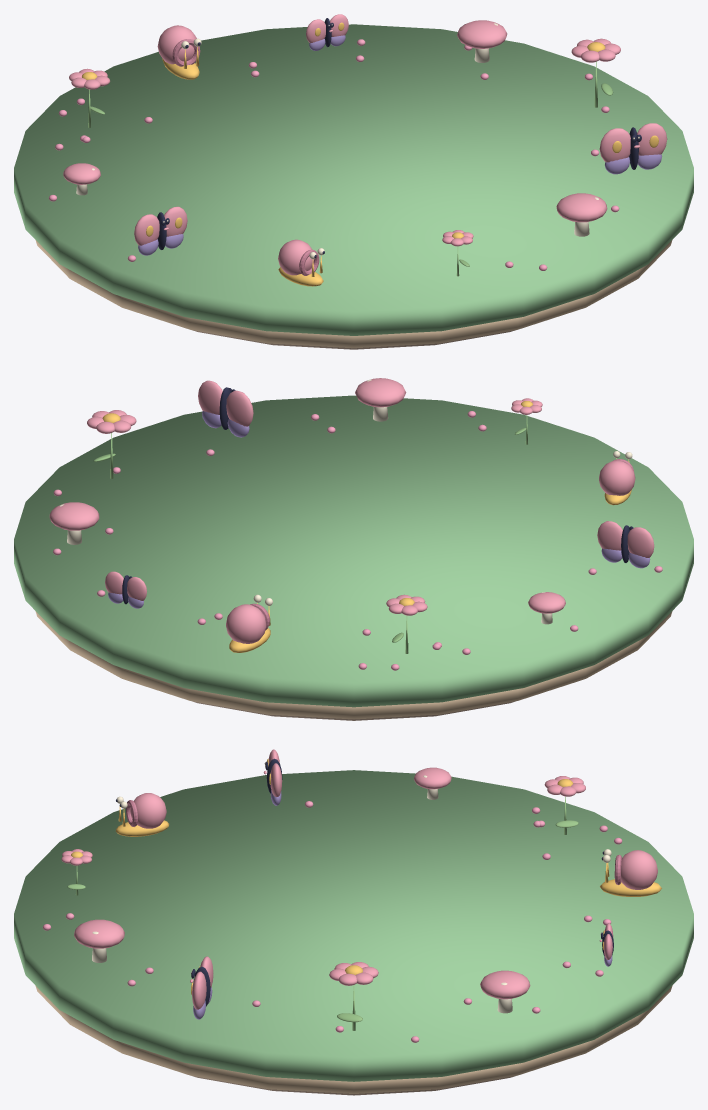
File: world.glb
The picture shows the model from 3 angles, top to bottom: view 1: azimuth 30°, elevation 25°; view 2: azimuth 150°, elevation 25°; view 3: azimuth 270°, elevation 25°; orthographic projection.
Visible parts, largest first — view 1: Cone, Cone.001, butterfly.003, butterfly.002, snail.001, snail.002, mushroom.003, mushroom.001, butterfly.001, flower.001, flower.002, mushroom.002 (+2 smaller); view 2: Cone, Cone.001, butterfly.003, butterfly.002, snail.001, snail.002, mushroom.003, mushroom.001, butterfly.001, flower.001, flower.002, mushroom.002 (+1 smaller); view 3: Cone, Cone.001, snail.001, snail.002, mushroom.003, mushroom.001, flower.001, butterfly.003, flower.002, mushroom.002, butterfly.002, Cone.002 (+1 smaller).
Boxes of the visible parts, x1=… form: Cone: x1=14, y1=24, x2=693, y2=335; Cone.001: x1=35, y1=240, x2=672, y2=348; butterfly.003: x1=599, y1=123, x2=667, y2=174; butterfly.002: x1=134, y1=206, x2=187, y2=255; snail.001: x1=157, y1=25, x2=201, y2=79; snail.002: x1=278, y1=239, x2=324, y2=286; mushroom.003: x1=556, y1=193, x2=607, y2=236; mushroom.001: x1=457, y1=20, x2=507, y2=62; butterfly.001: x1=306, y1=14, x2=348, y2=50; flower.001: x1=571, y1=38, x2=620, y2=107; flower.002: x1=69, y1=68, x2=110, y2=127; mushroom.002: x1=63, y1=163, x2=100, y2=195; Cone: x1=14, y1=395, x2=693, y2=707; Cone.001: x1=35, y1=611, x2=672, y2=719; butterfly.003: x1=198, y1=380, x2=253, y2=437; butterfly.002: x1=597, y1=521, x2=654, y2=568; snail.001: x1=226, y1=594, x2=272, y2=652; snail.002: x1=599, y1=451, x2=635, y2=505; mushroom.003: x1=355, y1=378, x2=406, y2=421; mushroom.001: x1=49, y1=502, x2=99, y2=544; butterfly.001: x1=105, y1=571, x2=146, y2=608; flower.001: x1=87, y1=410, x2=136, y2=478; flower.002: x1=386, y1=594, x2=427, y2=653; mushroom.002: x1=528, y1=592, x2=565, y2=624; Cone: x1=14, y1=770, x2=693, y2=1081; Cone.001: x1=35, y1=985, x2=672, y2=1093; snail.001: x1=600, y1=849, x2=661, y2=896; snail.002: x1=115, y1=793, x2=169, y2=836; mushroom.003: x1=74, y1=919, x2=124, y2=962; mushroom.001: x1=480, y1=970, x2=530, y2=1013; flower.001: x1=329, y1=962, x2=378, y2=1030; butterfly.003: x1=190, y1=956, x2=213, y2=1019; flower.002: x1=544, y1=776, x2=585, y2=834; mushroom.002: x1=414, y1=767, x2=451, y2=799; butterfly.002: x1=263, y1=749, x2=282, y2=805; Cone.002: x1=192, y1=1076, x2=515, y2=1095.
Size of the model in its own units: 9.6 by 1.79 by 9.6.
